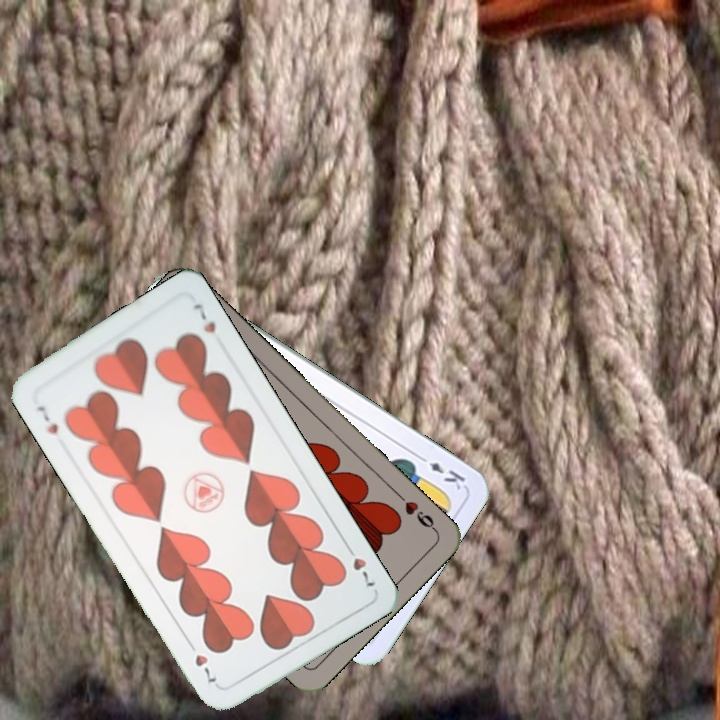EK: (414, 451, 468, 493)
H7: (341, 539, 378, 590), (33, 402, 61, 437)
H9: (393, 489, 439, 534)
